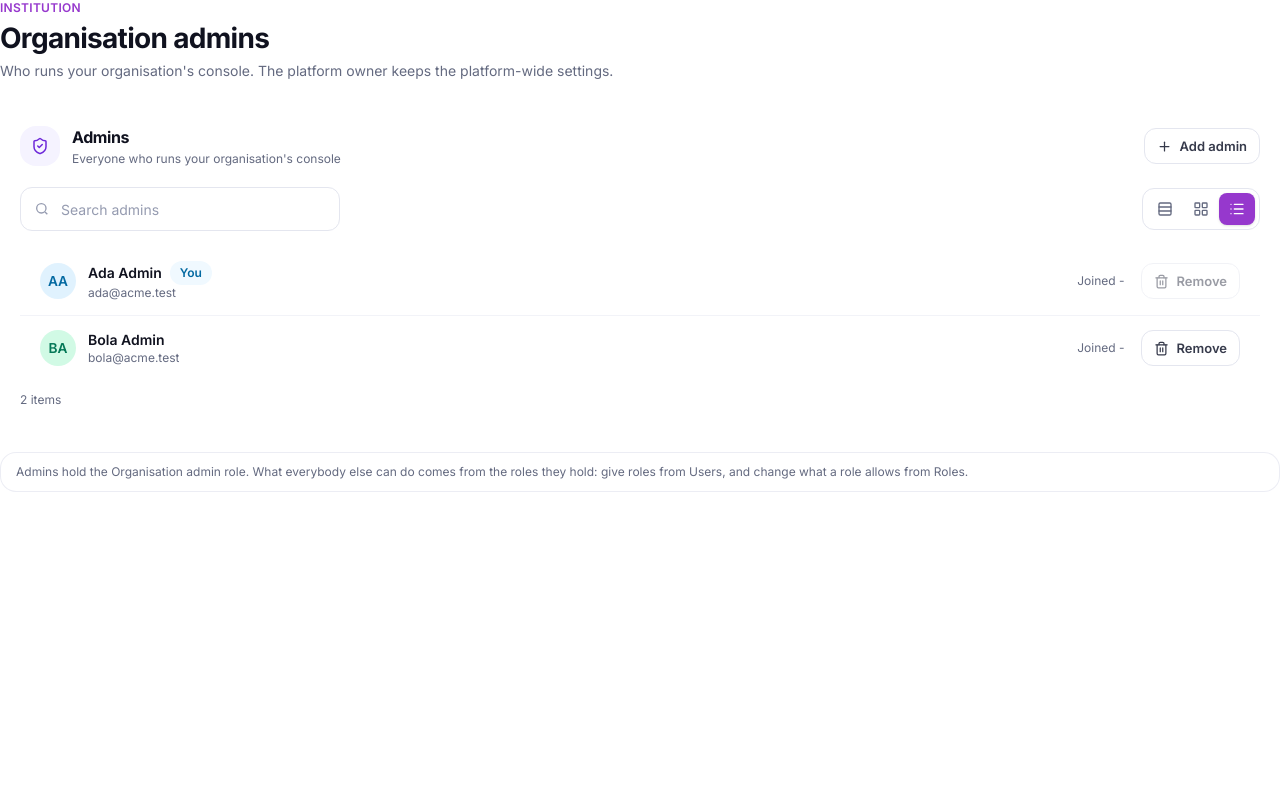
it: Settings › Admins › says removing an admin makes them a User and keeps their account
What coordinates should you click on to do the following:
click the button "Remove" in the row of "bola@acme.test"
I would click on:
 (1190, 348)
Its box is [1140,330,1240,366].
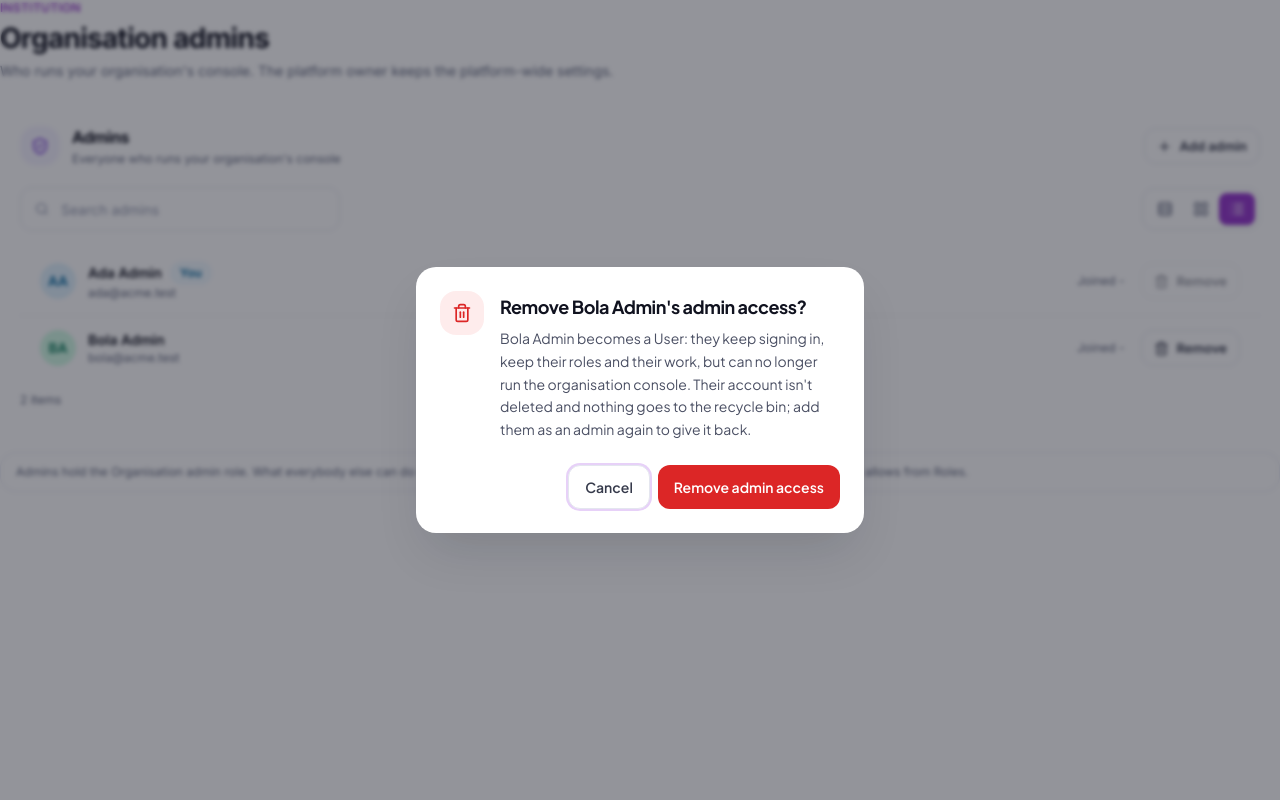
Check: the text "account isn't deleted" is shown, box [500,329,824,438]
What coordinates should you click on to do the following:
click the button "Remove admin access"
I would click on:
 (749, 487)
Its box is [658,465,840,509].
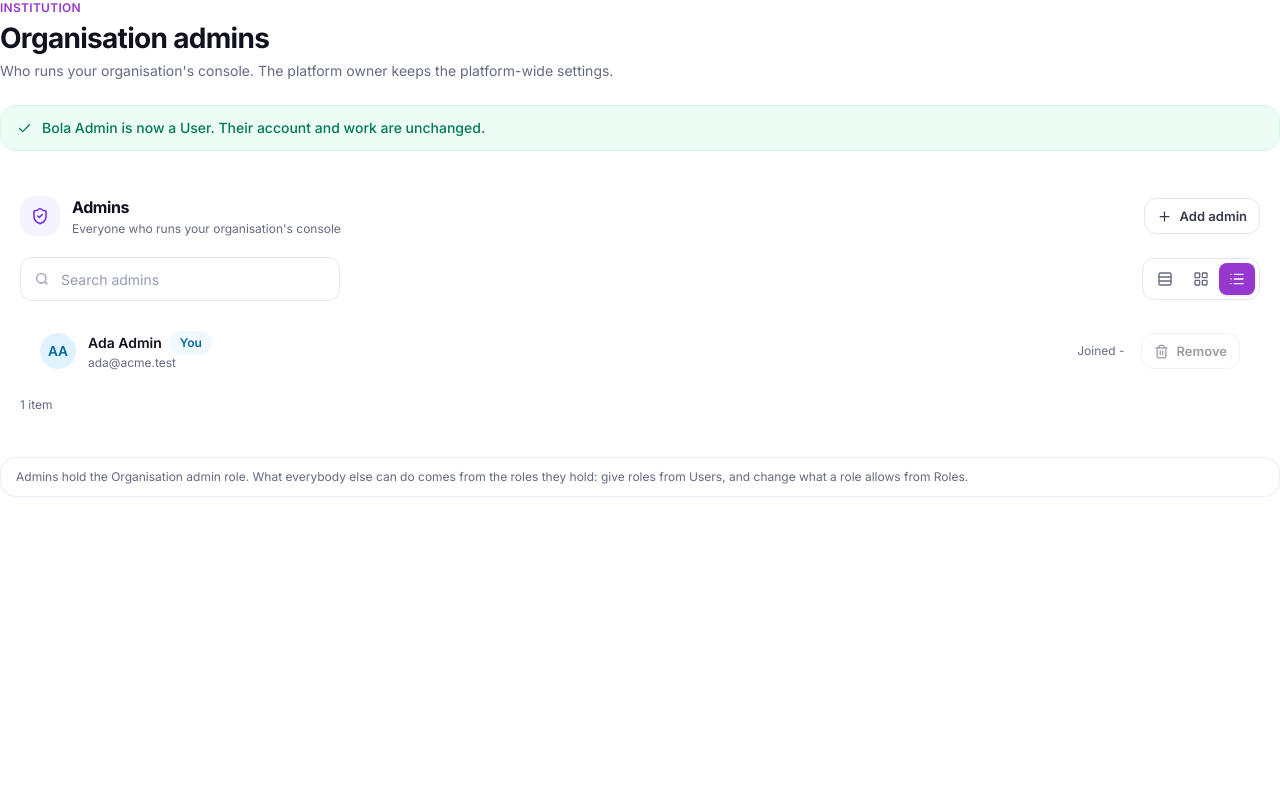
Check: the text "Bola Admin is now a User. Their account and work are unchanged." is shown, box [0,105,1279,151]
